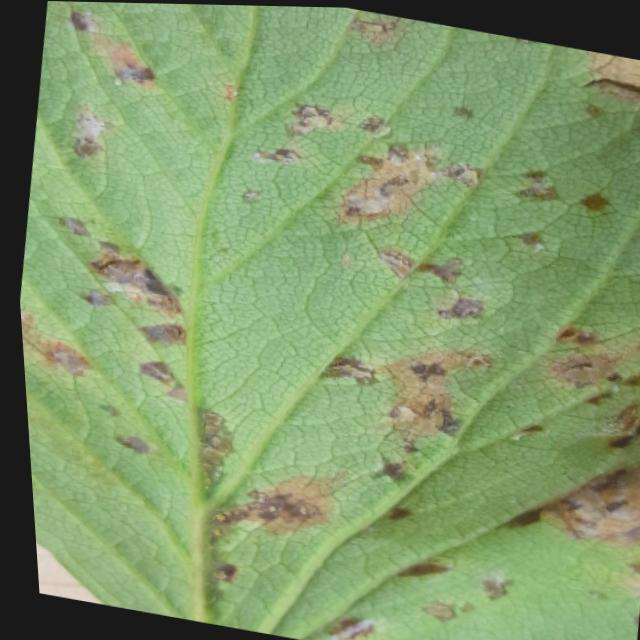Angular Leafspot: (15, 1, 640, 640)
